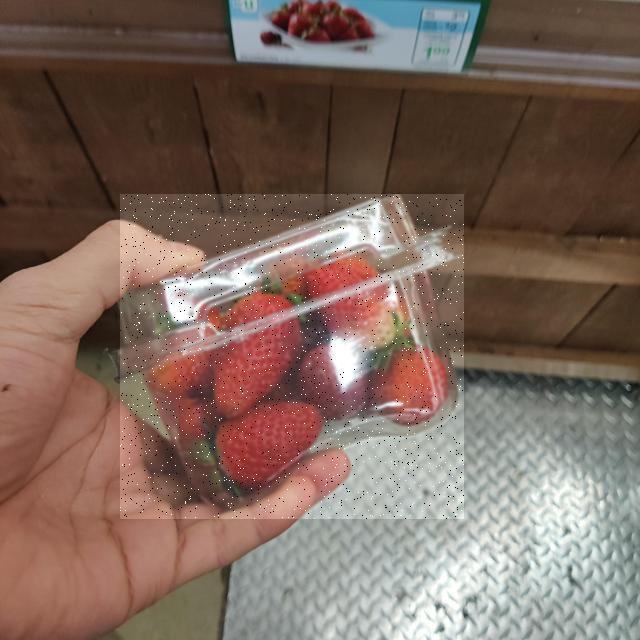Straw Berry: (120, 194, 464, 519)
